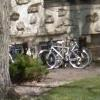Bicycle: (36, 28, 93, 73)
